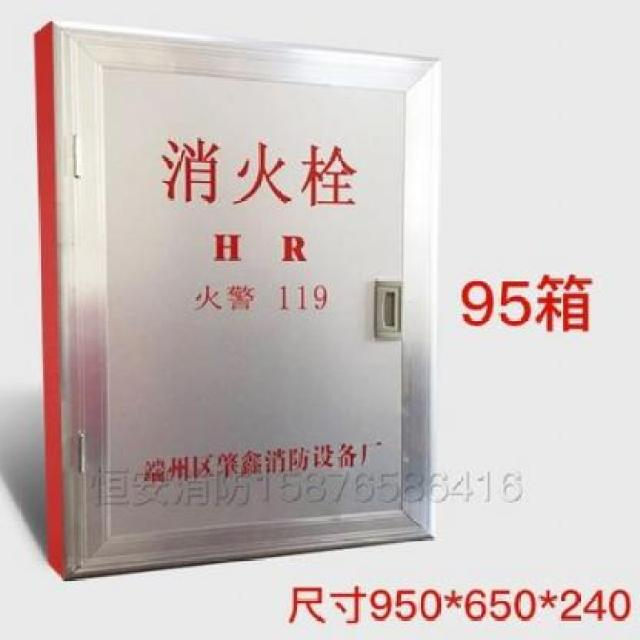firehydrant: (29, 16, 446, 586)
